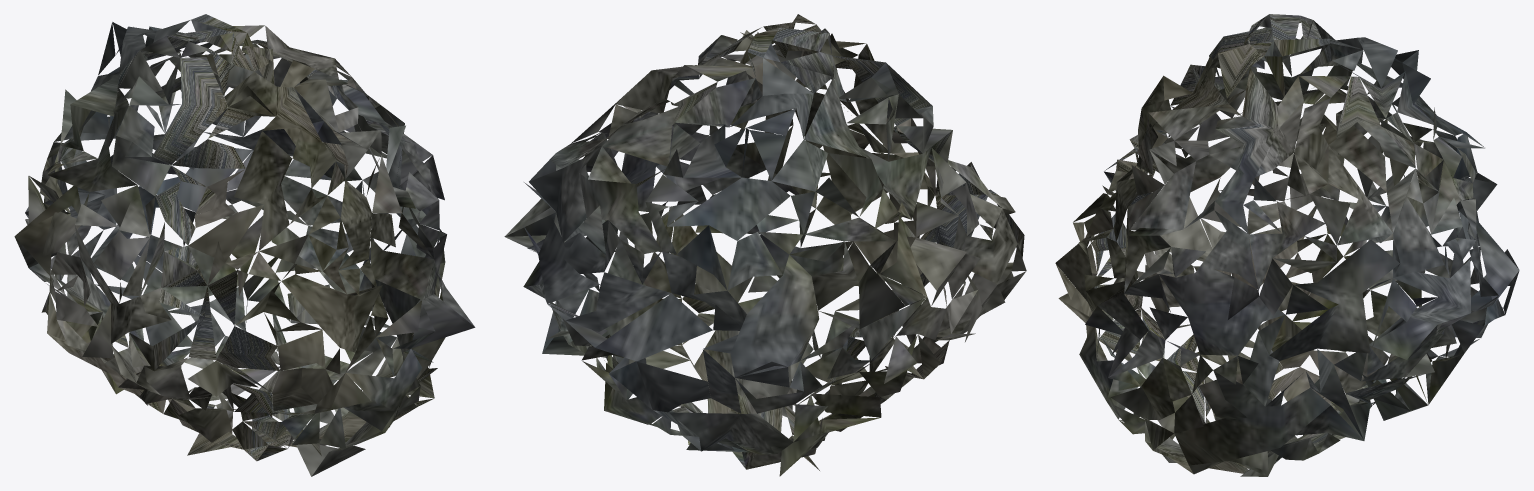
The model's file is stone_a.glb.
The picture shows the model from 3 angles, left to right: view 1: azimuth 30°, elevation 25°; view 2: azimuth 150°, elevation 25°; view 3: azimuth 270°, elevation 25°; orthographic projection. The views are drawn at different scales.
Parts seen in each view (by area): view 1: stone_a; view 2: stone_a; view 3: stone_a.
Part boxes in pixels (x1,y1,x2,y2): stone_a: [14, 14, 475, 476]; stone_a: [504, 14, 1026, 476]; stone_a: [1055, 14, 1519, 476].
Bounding box in the file's own units: 0.9771 × 0.9985 × 1.02.
1 material, 1 textured.
